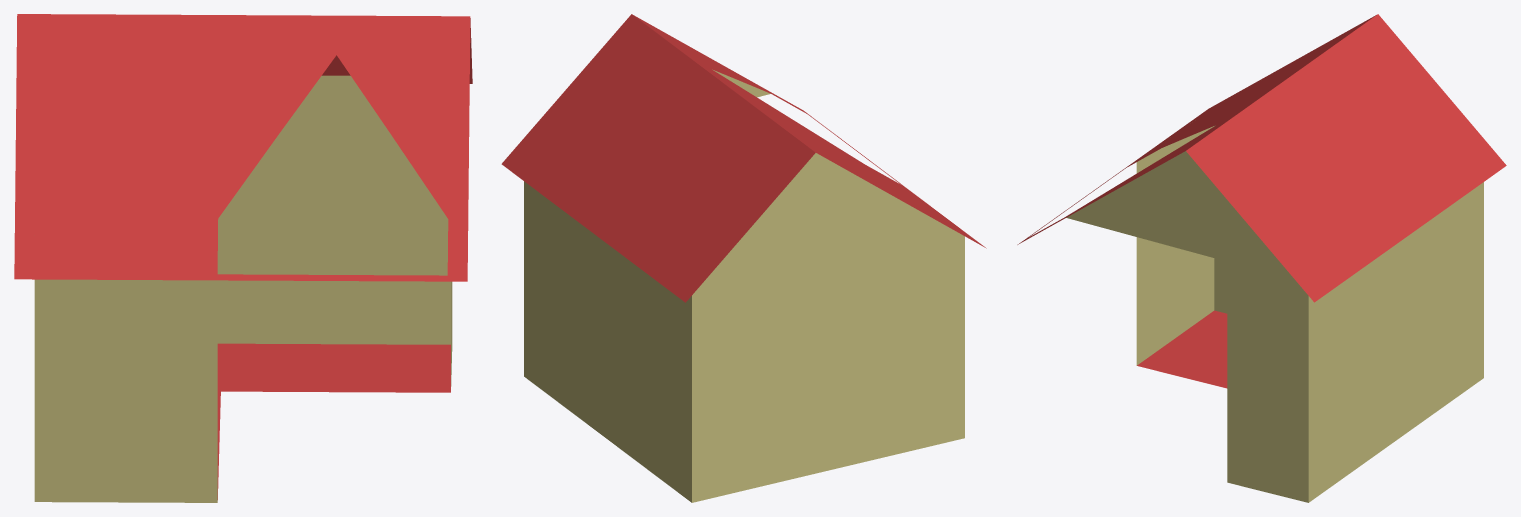
The picture shows the model from 3 angles, left to right: view 1: azimuth 30°, elevation 25°; view 2: azimuth 150°, elevation 25°; view 3: azimuth 270°, elevation 25°; orthographic projection. The views are drawn at different scales.
Bounding box in the file's own units: 15.05 × 14.73 × 10.91.
